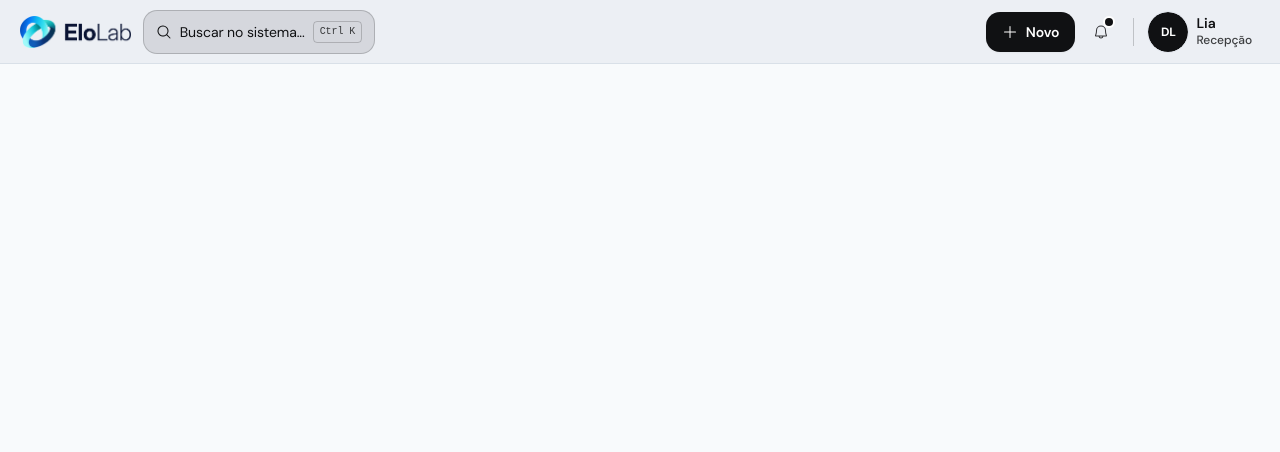
Test: consultas de notificações da Navbar › o sino só acende por envio com problema, não por envio concluído
Expected: the text "notificações" is not shown
Expected: the element with class "animate-ping" is shown, [1106,18,1114,26]
Click the button named "Abrir notificações" at (1102, 32), box [1080,10,1124,54]
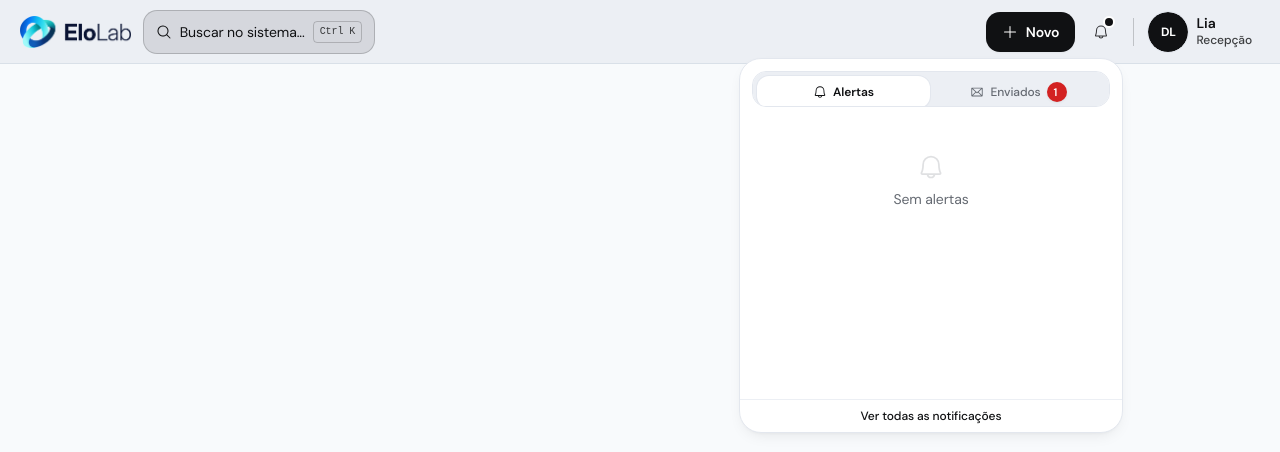
Click the tab "Enviados 1" at (1018, 92), box [932,76,1105,108]
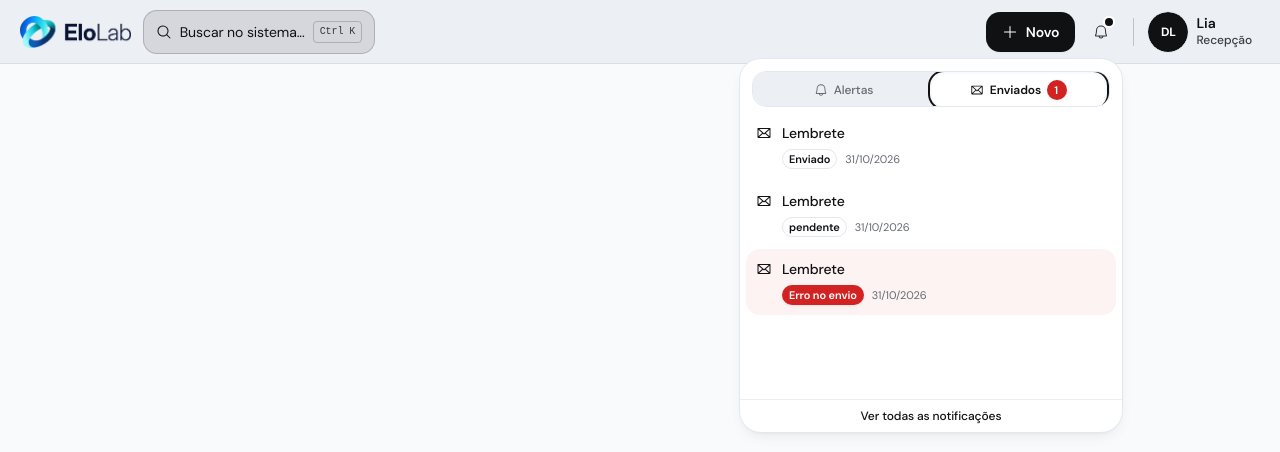
Now the text "Erro no envio" is shown, box [782,285,864,305]
